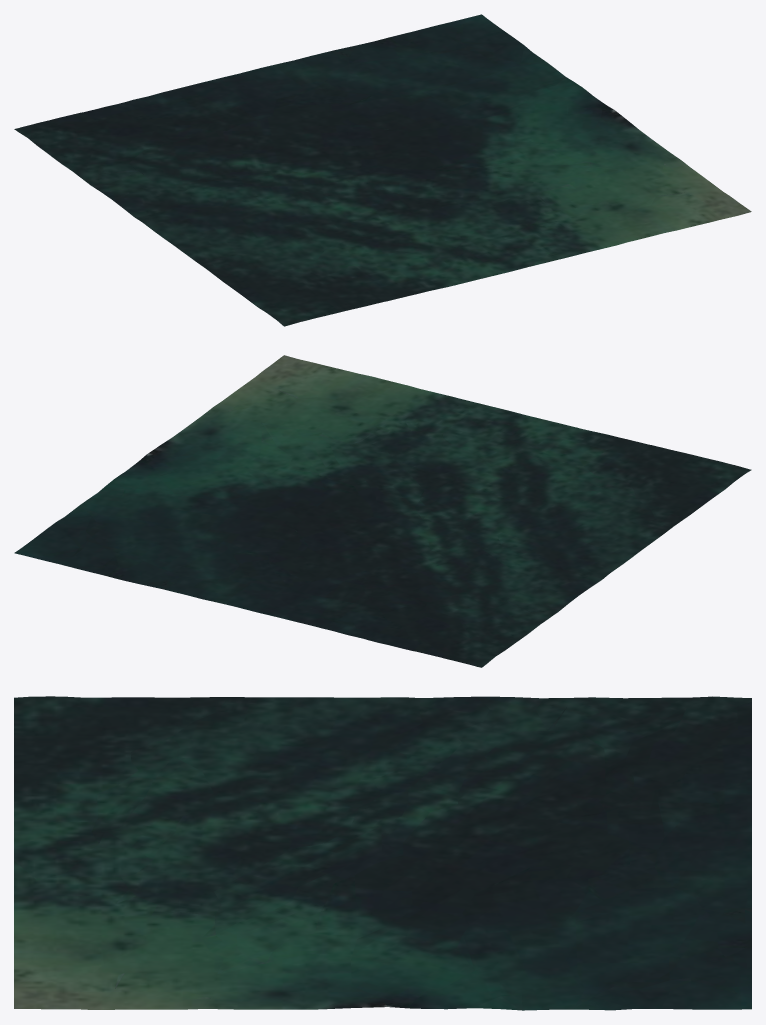
The picture shows the model from 3 angles, top to bottom: view 1: azimuth 30°, elevation 25°; view 2: azimuth 150°, elevation 25°; view 3: azimuth 270°, elevation 25°; orthographic projection. The views are drawn at different scales.
Bounding box in the file's own units: 104 × 0.6199 × 104.
Materials: 2 (2 with a texture image).
